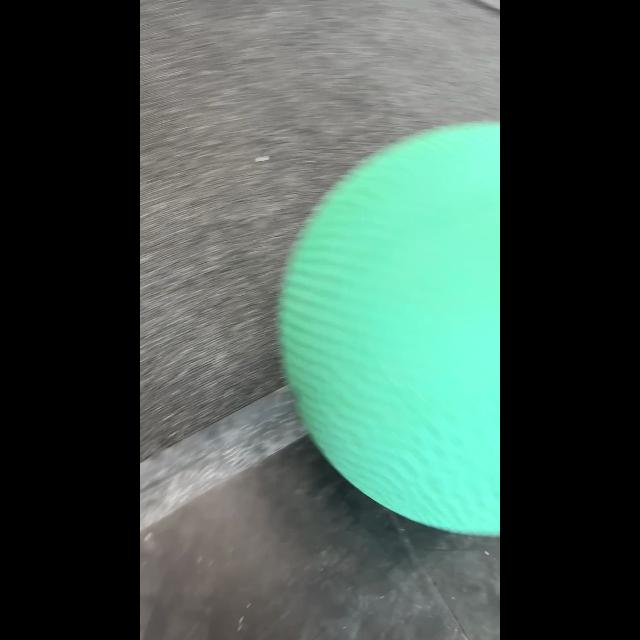ALGAE: (277, 120, 499, 536)
